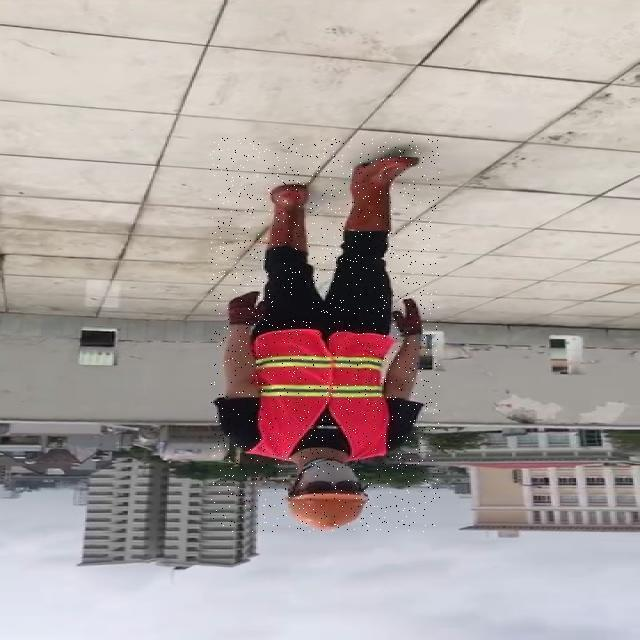Boots: (341, 156, 418, 234), (261, 182, 311, 252)
Gloves: (223, 288, 269, 328), (390, 296, 426, 340)
Helmet: (278, 486, 377, 532)
Vest: (252, 330, 393, 458)
